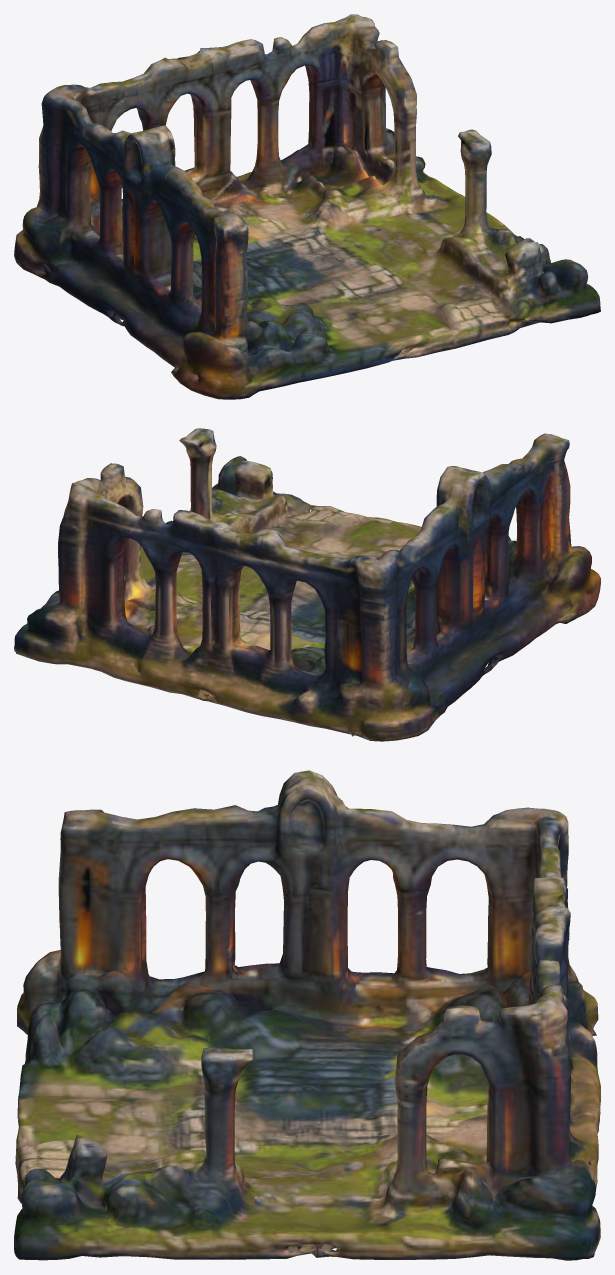
Rendered from castelo-fantasia.glb.
3 renders of one model, top to bottom at view 1: azimuth 30°, elevation 25°; view 2: azimuth 150°, elevation 25°; view 3: azimuth 270°, elevation 25°, orthographic. The views are drawn at different scales.
Bounding box in the file's own units: 1.99 × 0.9151 × 1.91.
Materials: 1 (1 with a texture image).
